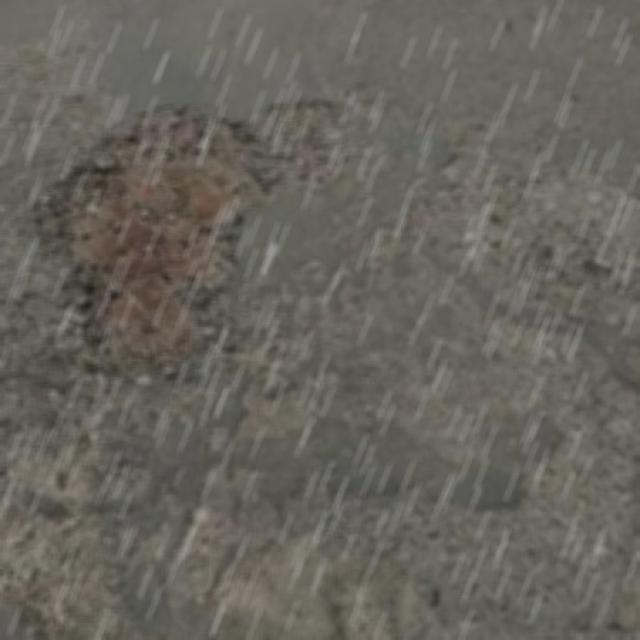road-pothole: (24, 101, 372, 392)
